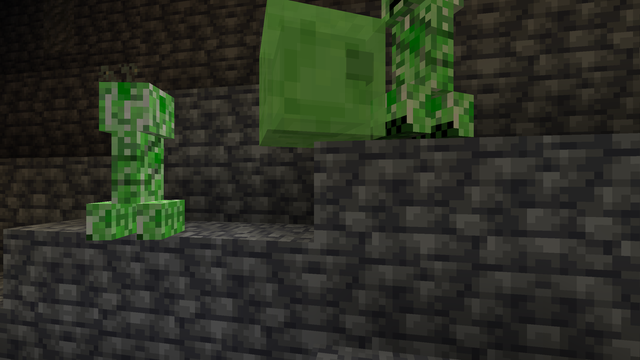creepers: (89, 71, 181, 242), (384, 0, 467, 143)
slimes: (240, 0, 367, 148)
